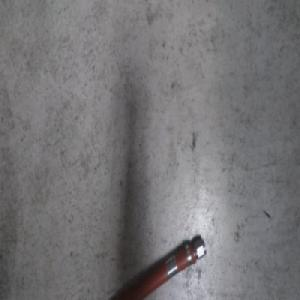Hose: (92, 232, 208, 300)
